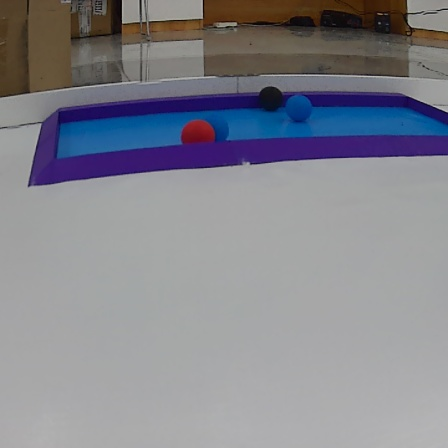black: (256, 83, 286, 111)
blue: (206, 113, 231, 144), (285, 95, 313, 122)
blue_aim: (34, 92, 448, 179)
red: (176, 120, 216, 148)
